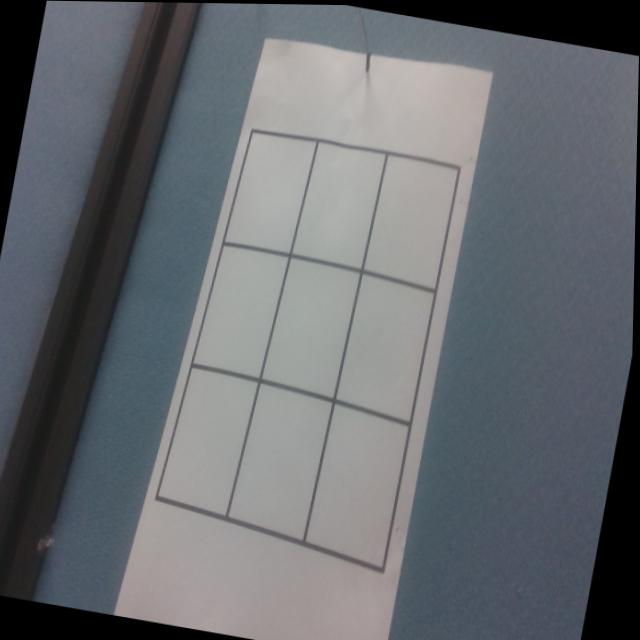null: (227, 377, 336, 542), (307, 402, 413, 569), (157, 363, 259, 522), (335, 275, 434, 423), (260, 256, 362, 399), (193, 242, 289, 382), (365, 151, 459, 288), (223, 126, 315, 258), (292, 141, 384, 267)
table: (144, 103, 470, 577)
